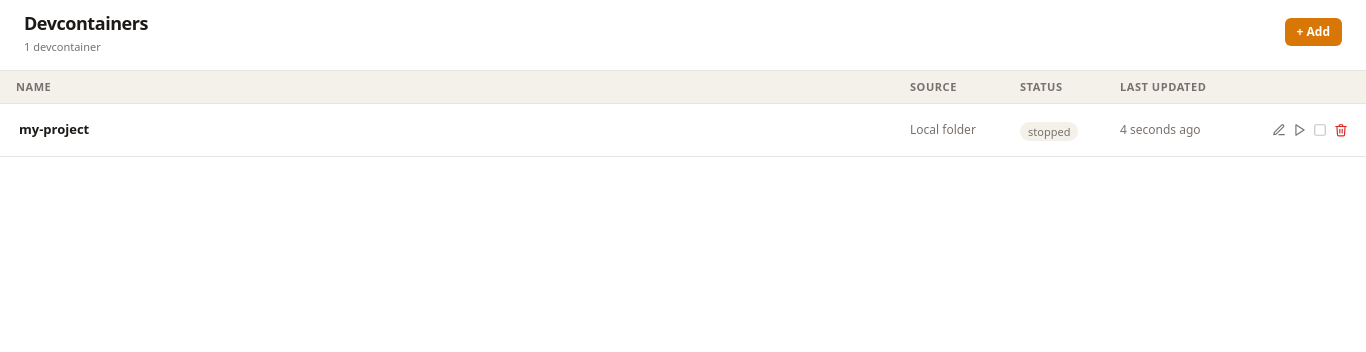
Test case: Devcontainers lifecycle buttons › shows error message when start fails
Expected: the link "my-project" is shown, x1=19 y1=120 x2=89 y2=138
Click the button titled "Start". click: click(1300, 130)
box: x1=1290 y1=116 x2=1309 y2=144
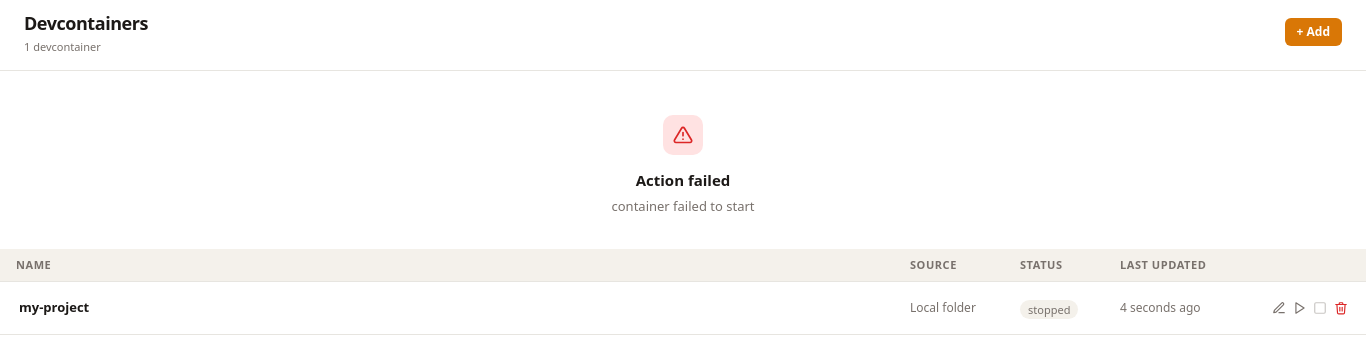
Expected: the text "container failed to start" is shown, x1=612 y1=197 x2=754 y2=216
